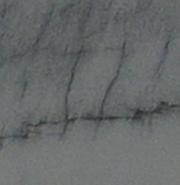termicas: (1, 85, 180, 160), (97, 37, 133, 138), (54, 38, 83, 137)
